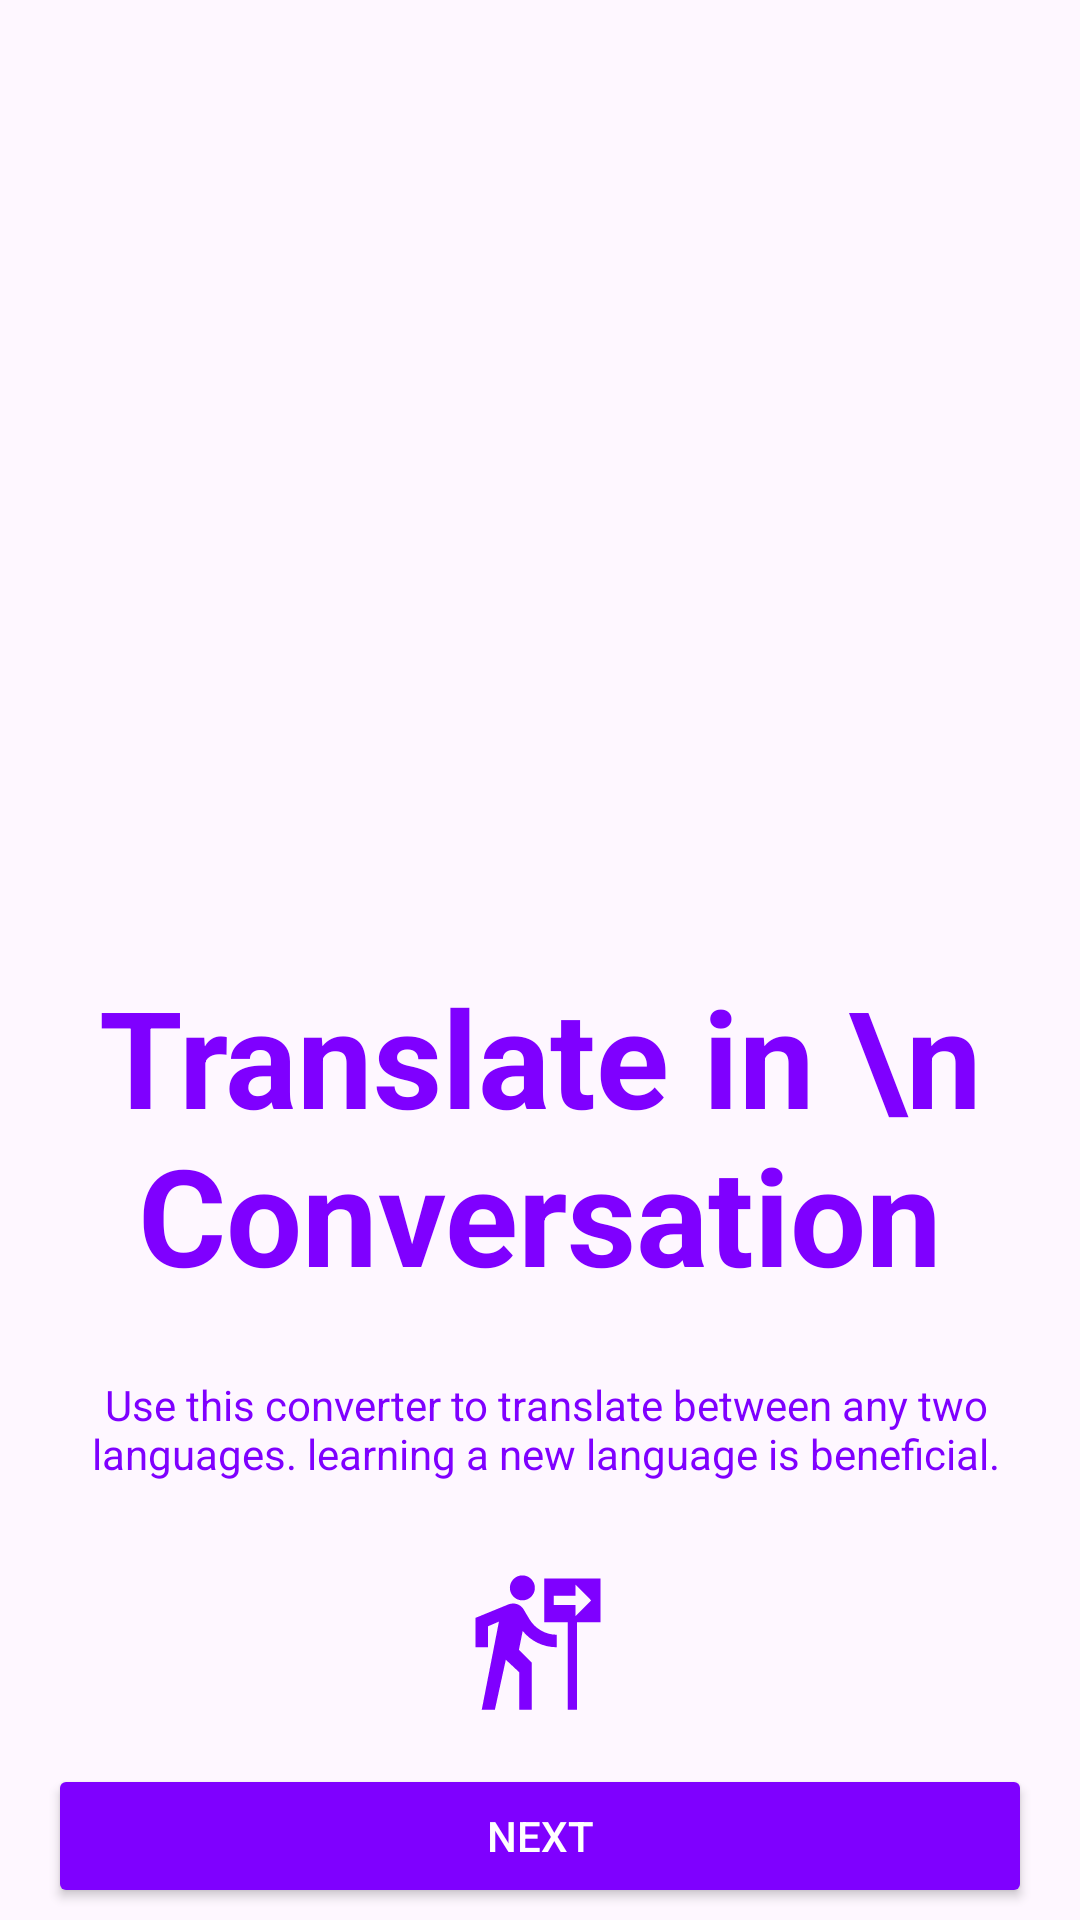

Screen size 1080px x 1920px. Icon name, then its center in pixels as (x,y):
follow the signs: (538,1642)
